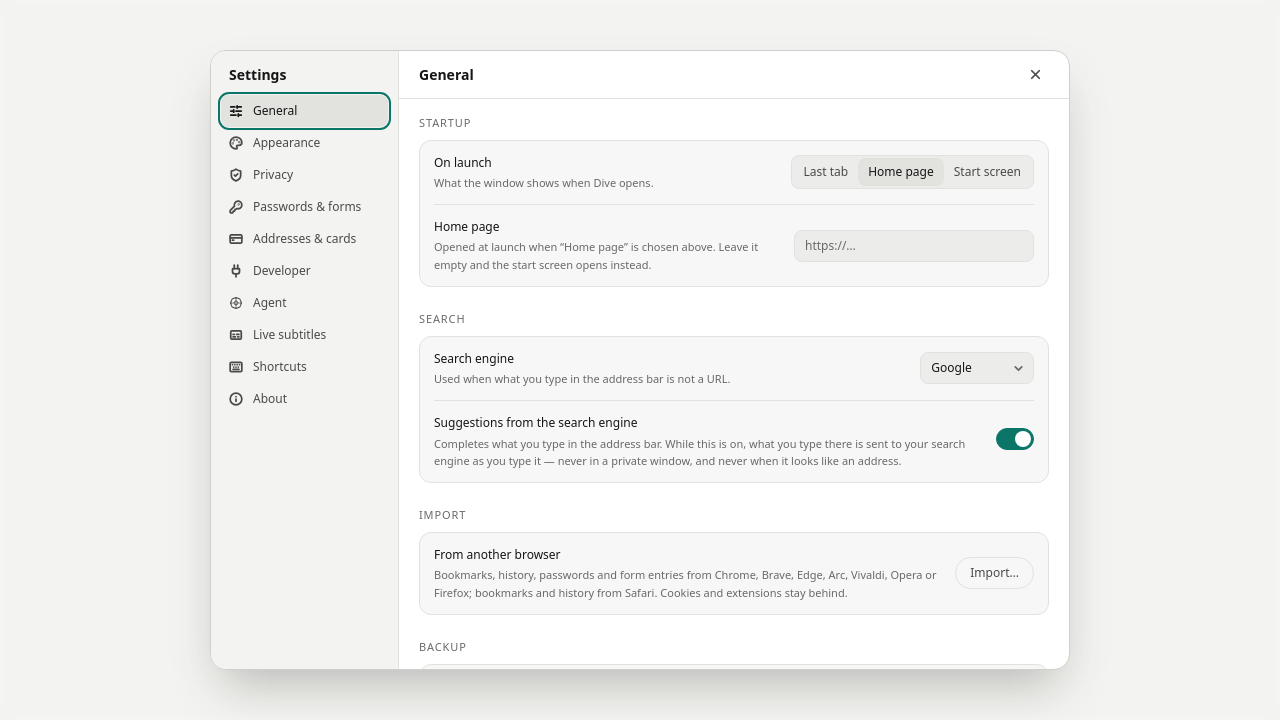
Test: Site permissions › forgetting a decision sets it back to ask and drops the row
Click the tab "Privacy". click: (304, 175)
box: 221,159 -> 388,191
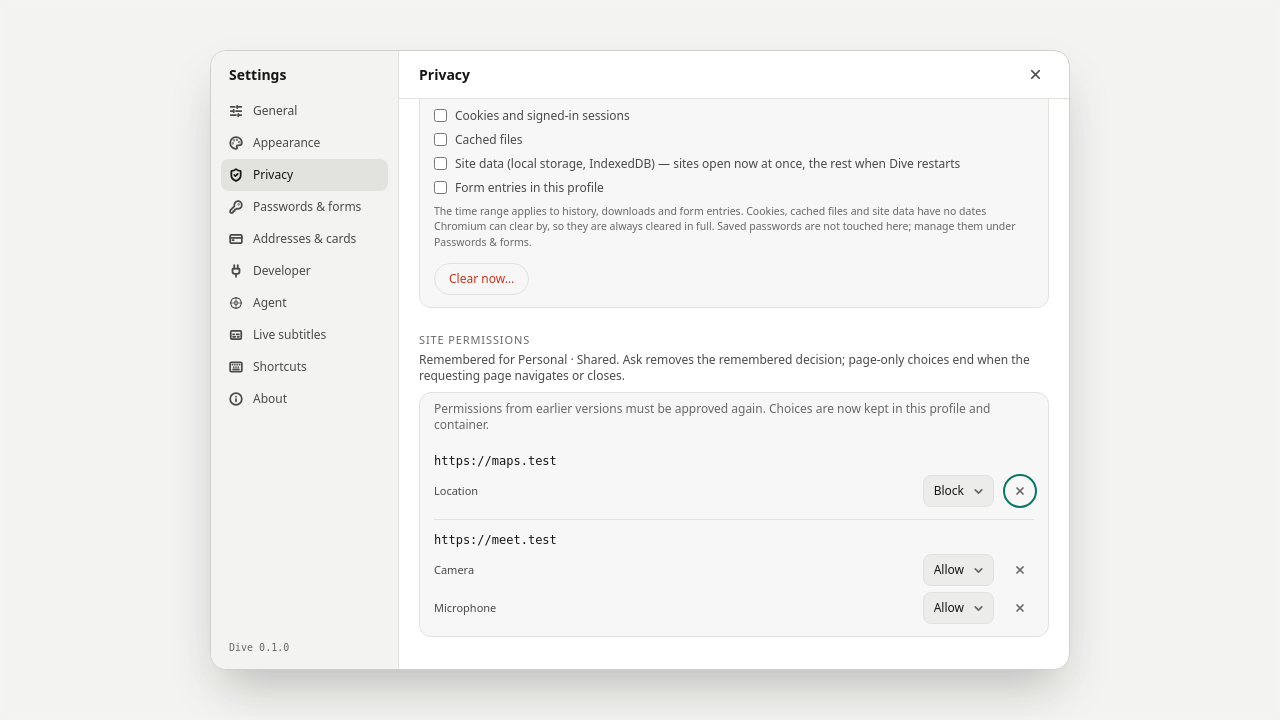
Check: the text "https://maps.test" is shown, box 434,454 -> 557,468
Click the button named "Forget https://maps.test Location". click: (1020, 491)
box: 1006,477 -> 1034,505
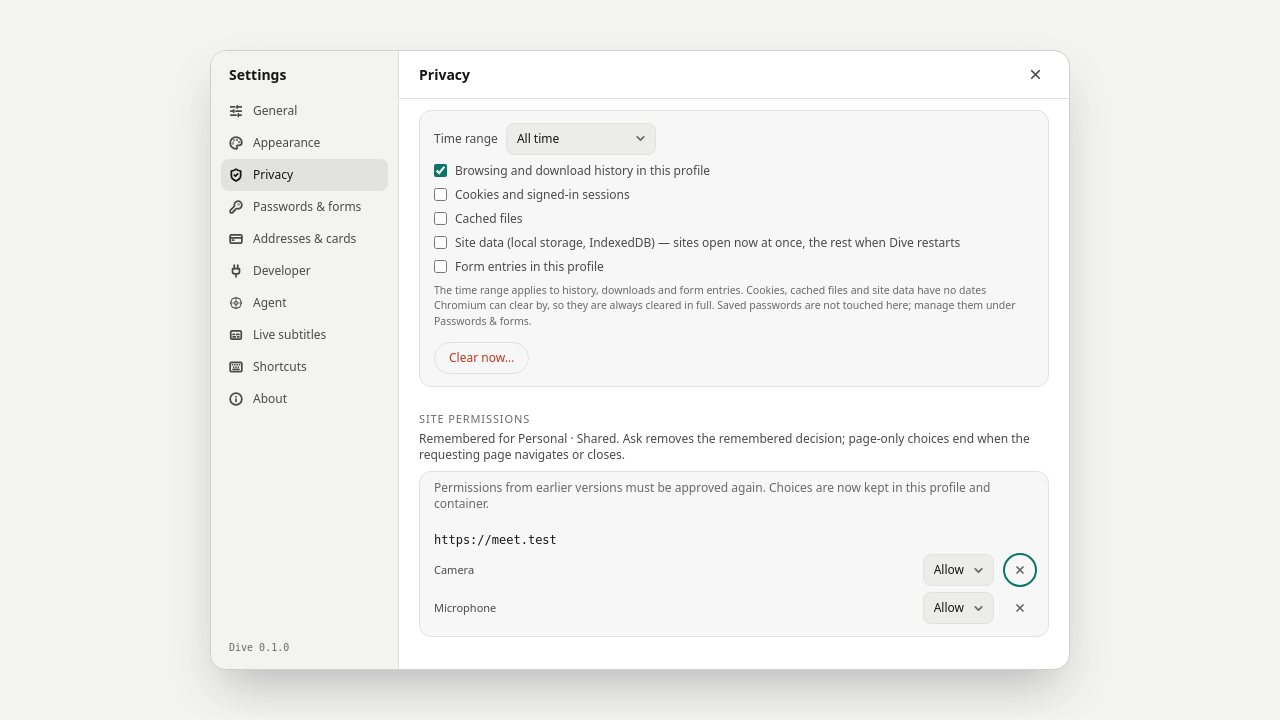
Check: the text "https://meet.test" is shown, box 434,533 -> 557,547
Check: the text "https://maps.test" is gone
